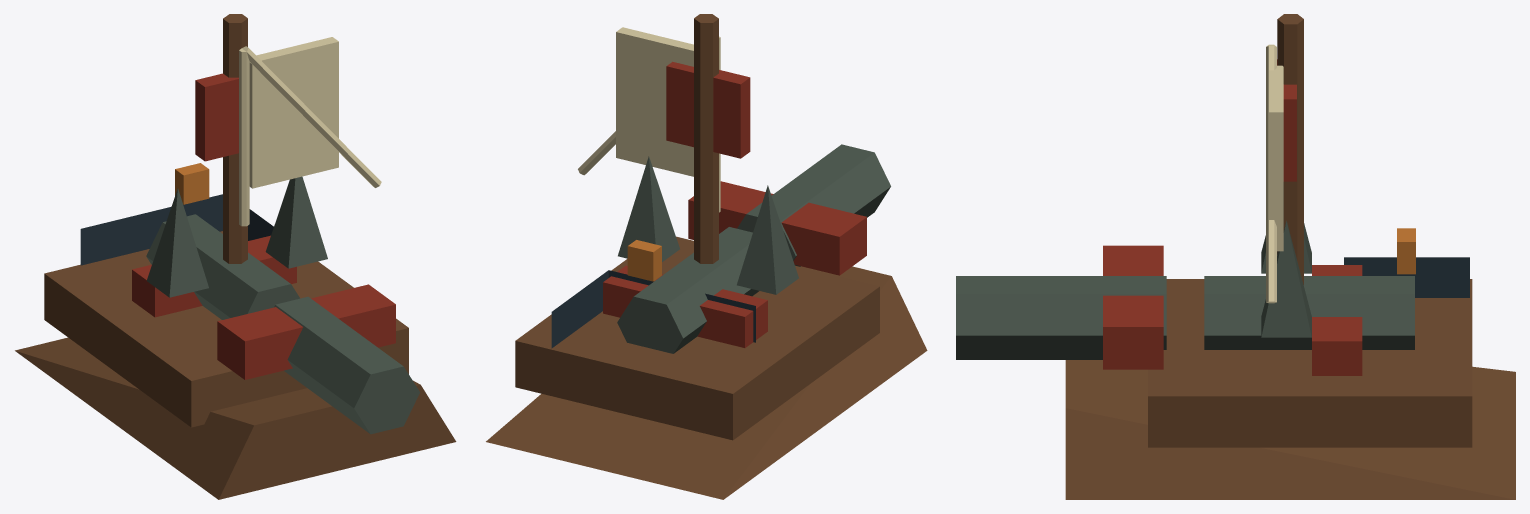
File: heavy-warship.obj
The picture shows the model from 3 angles, left to right: view 1: azimuth 30°, elevation 25°; view 2: azimuth 150°, elevation 25°; view 3: azimuth 270°, elevation 25°; orthographic projection. The views are drawn at different scales.
Visible parts, largest first — view 1: ship; view 2: ship; view 3: ship.
Boxes of the visible parts, <box> form: ship: <box>15,14,456,499</box>; ship: <box>486,14,927,499</box>; ship: <box>956,14,1515,499</box>.
Bounding box in the file's own units: 1.54 × 2.18 × 2.66.
